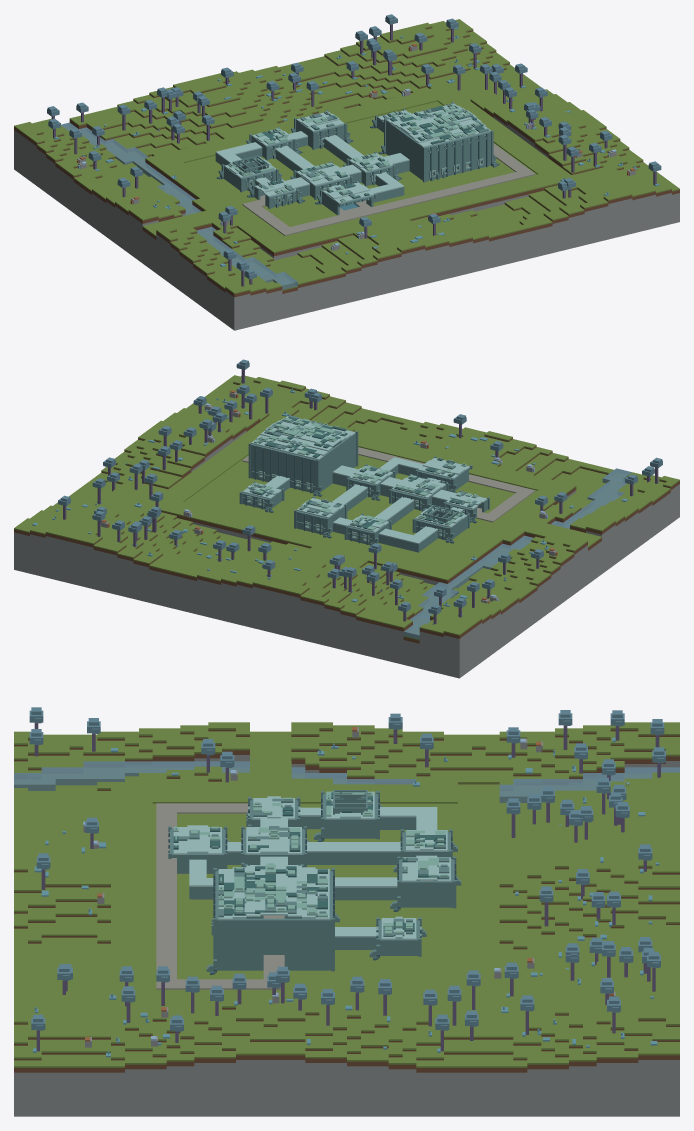
The model's file is mana_grove.glb.
3 renders of one model, top to bottom at view 1: azimuth 30°, elevation 25°; view 2: azimuth 150°, elevation 25°; view 3: azimuth 270°, elevation 25°, orthographic. The views are drawn at different scales.
Visible parts, largest first — view 1: mana_grove/surface, mana_grove/terrain, mana_grove/vegetation, mana_grove/mana_grove_dungeon/room_walls, mana_grove/mana_grove_dungeon/exterior_details, mana_grove/mana_grove_dungeon/floor_mesh, mana_grove/watercourses, mana_grove/mana_grove_dungeon/roof_arena, mana_grove/mana_grove_dungeon/corridor_walls, mana_grove/mana_grove_dungeon/roof_workshop, mana_grove/outcrops, mana_grove/mana_grove_dungeon/roof_cistern (+3 smaller); view 2: mana_grove/surface, mana_grove/terrain, mana_grove/vegetation, mana_grove/mana_grove_dungeon/room_walls, mana_grove/mana_grove_dungeon/exterior_details, mana_grove/watercourses, mana_grove/mana_grove_dungeon/roof_arena, mana_grove/mana_grove_dungeon/corridor_walls, mana_grove/mana_grove_dungeon/floor_mesh, mana_grove/outcrops, mana_grove/mana_grove_dungeon/roof_workshop, mana_grove/mana_grove_dungeon/roof_cistern (+3 smaller); view 3: mana_grove/surface, mana_grove/terrain, mana_grove/vegetation, mana_grove/mana_grove_dungeon/room_walls, mana_grove/watercourses, mana_grove/mana_grove_dungeon/roof_arena, mana_grove/mana_grove_dungeon/floor_mesh, mana_grove/mana_grove_dungeon/corridor_walls, mana_grove/mana_grove_dungeon/exterior_details, mana_grove/mana_grove_dungeon/roof_workshop, mana_grove/mana_grove_dungeon/roof_cistern, mana_grove/mana_grove_dungeon/roof_nursery (+7 smaller).
Boxes of the visible parts, bbox=[...] form: mana_grove/surface: bbox=[14, 19, 679, 294]; mana_grove/terrain: bbox=[14, 27, 679, 330]; mana_grove/vegetation: bbox=[47, 14, 661, 286]; mana_grove/mana_grove_dungeon/room_walls: bbox=[224, 117, 490, 215]; mana_grove/mana_grove_dungeon/exterior_details: bbox=[216, 102, 499, 208]; mana_grove/mana_grove_dungeon/floor_mesh: bbox=[242, 141, 535, 235]; mana_grove/watercourses: bbox=[61, 122, 297, 289]; mana_grove/mana_grove_dungeon/roof_arena: bbox=[386, 103, 490, 147]; mana_grove/mana_grove_dungeon/corridor_walls: bbox=[215, 137, 409, 203]; mana_grove/mana_grove_dungeon/roof_workshop: bbox=[296, 162, 350, 185]; mana_grove/outcrops: bbox=[77, 44, 635, 250]; mana_grove/mana_grove_dungeon/roof_cistern: bbox=[322, 182, 374, 203]; mana_grove/surface: bbox=[14, 375, 679, 640]; mana_grove/terrain: bbox=[14, 381, 679, 678]; mana_grove/vegetation: bbox=[32, 359, 662, 624]; mana_grove/mana_grove_dungeon/room_walls: bbox=[242, 433, 487, 544]; mana_grove/mana_grove_dungeon/exterior_details: bbox=[239, 414, 489, 546]; mana_grove/watercourses: bbox=[403, 468, 631, 639]; mana_grove/mana_grove_dungeon/roof_arena: bbox=[251, 415, 355, 459]; mana_grove/mana_grove_dungeon/corridor_walls: bbox=[277, 465, 463, 552]; mana_grove/mana_grove_dungeon/floor_mesh: bbox=[242, 447, 535, 538]; mana_grove/outcrops: bbox=[101, 390, 557, 603]; mana_grove/mana_grove_dungeon/roof_workshop: bbox=[392, 475, 445, 497]; mana_grove/mana_grove_dungeon/roof_cistern: bbox=[418, 457, 469, 478]; mana_grove/surface: bbox=[14, 722, 679, 1067]; mana_grove/terrain: bbox=[14, 729, 679, 1116]; mana_grove/vegetation: bbox=[29, 707, 665, 1057]; mana_grove/mana_grove_dungeon/room_walls: bbox=[170, 793, 454, 970]; mana_grove/watercourses: bbox=[14, 761, 679, 802]; mana_grove/mana_grove_dungeon/roof_arena: bbox=[218, 864, 329, 920]; mana_grove/mana_grove_dungeon/floor_mesh: bbox=[156, 803, 433, 989]; mana_grove/mana_grove_dungeon/corridor_walls: bbox=[189, 816, 418, 949]; mana_grove/mana_grove_dungeon/exterior_details: bbox=[168, 791, 461, 974]; mana_grove/mana_grove_dungeon/roof_workshop: bbox=[246, 825, 301, 854]; mana_grove/mana_grove_dungeon/roof_cistern: bbox=[173, 825, 221, 854]; mana_grove/mana_grove_dungeon/roof_nursery: bbox=[402, 855, 450, 882].
Size of the model in its own units: 224 by 37 by 192.
